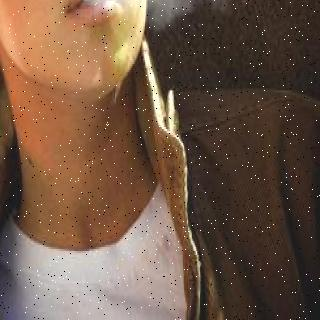smoke: (93, 0, 283, 9)
